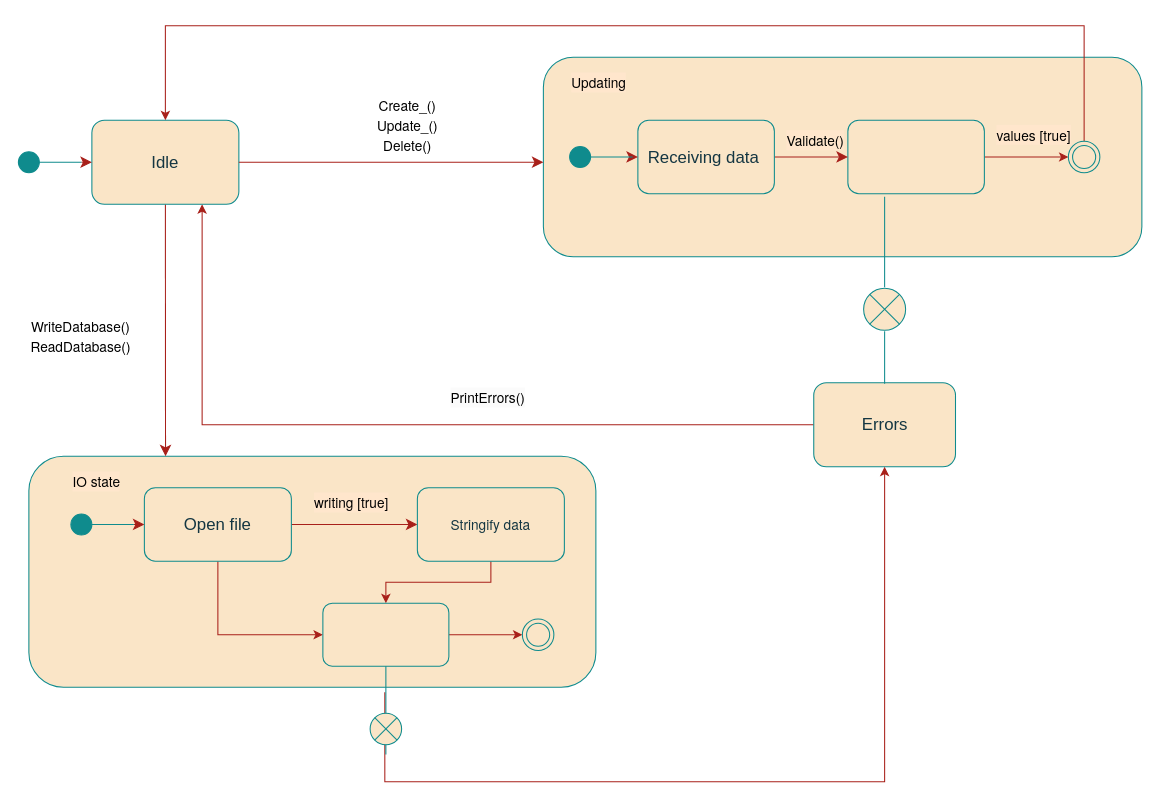
Image size: 1160x808. Some labels were removed from this diagram. Each missing label, with the box of its shape:
IO operations: (322, 602, 449, 666)
Validating: (847, 119, 984, 194)
